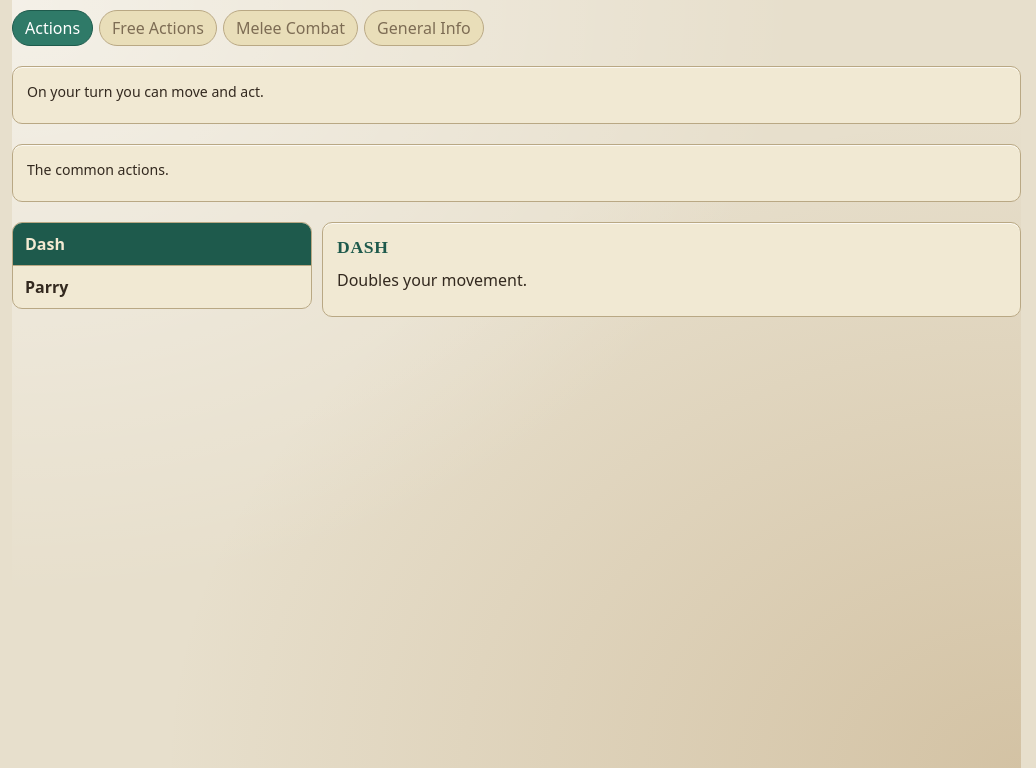
it: RulesView with layout: tabs › shows the info of the chosen row beside the list
Expected: the heading with class "rules-detail-name" reads "Dash", [337, 237, 389, 257]
Expected: the element with class "rules-detail" shows "Doubles your movement.", [337, 269, 527, 291]
Click the button with test id "table-row" showing "Parry": point(47, 287) [13, 266, 311, 308]
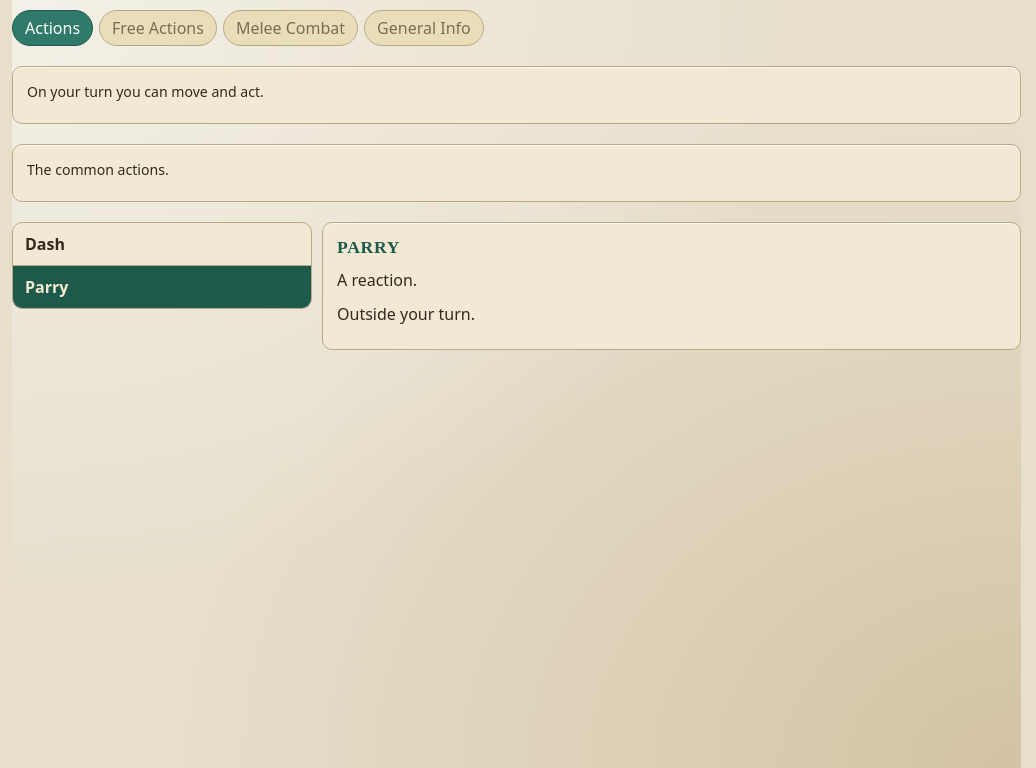
Expected: the heading with class "rules-detail-name" reads "Parry", [337, 237, 400, 257]
Expected: the element with class "rules-detail" shows "Outside your turn.", [337, 303, 475, 325]
